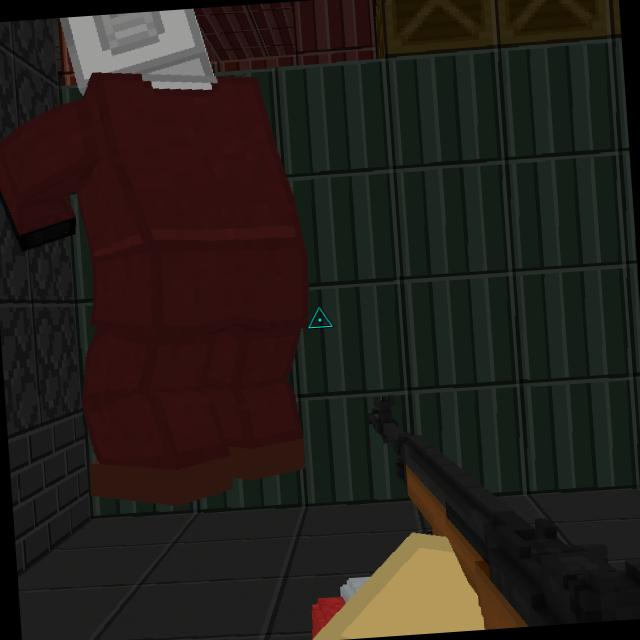enemy: (0, 1, 323, 507)
